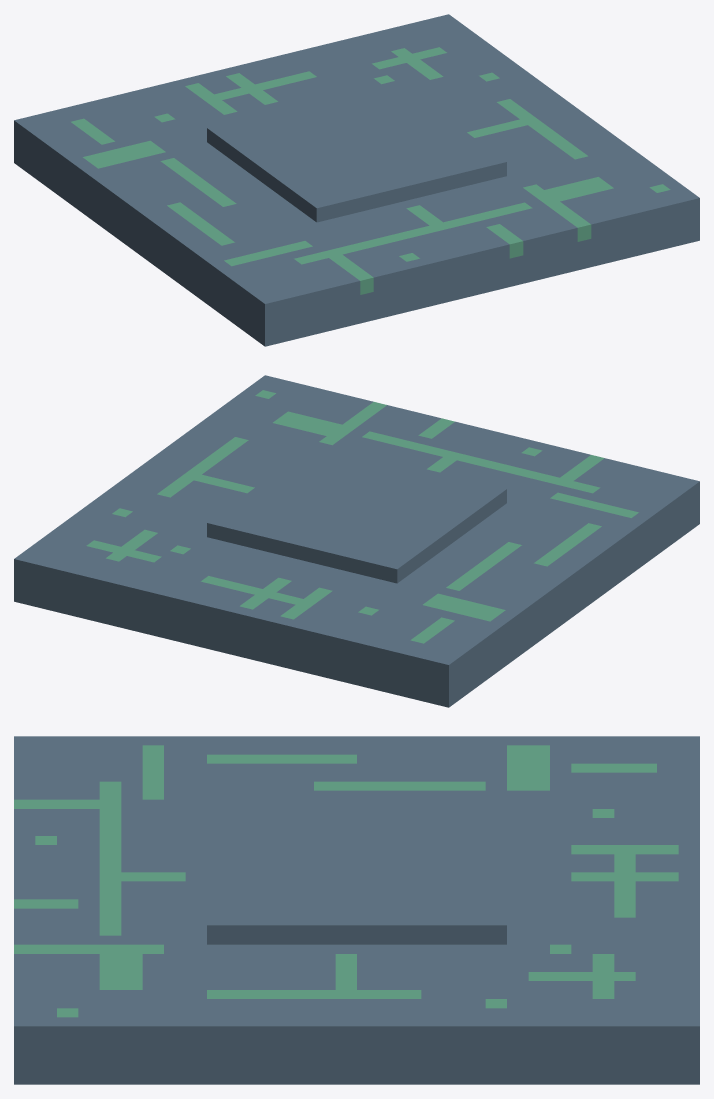
File: 003_goal_01.obj
The picture shows the model from 3 angles, top to bottom: view 1: azimuth 30°, elevation 25°; view 2: azimuth 150°, elevation 25°; view 3: azimuth 270°, elevation 25°; orthographic projection. The views are drawn at different scales.
Parts seen in each view (by area): view 1: 003_goal_01; view 2: 003_goal_01; view 3: 003_goal_01.
Boxes of the visible parts, box(x1,y1,x2,y2) form: 003_goal_01: box(14, 14, 699, 346); 003_goal_01: box(14, 375, 699, 707); 003_goal_01: box(14, 736, 699, 1084).
Bounding box in the file's own units: 32 × 4 × 32.
1 material, 1 textured.
